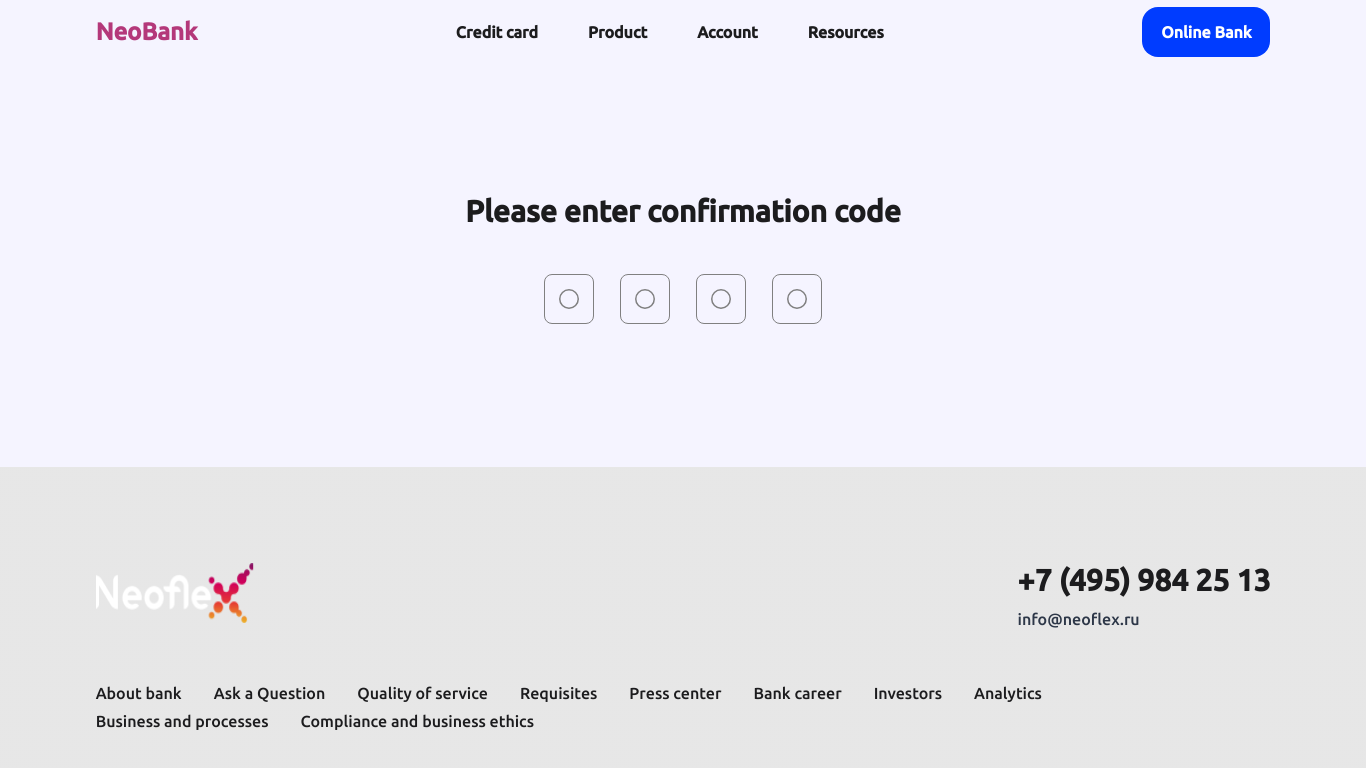
Test: Code › invalid code message
Type "0" into the 1st field. click: (569, 299)
box: [544,274,594,324]
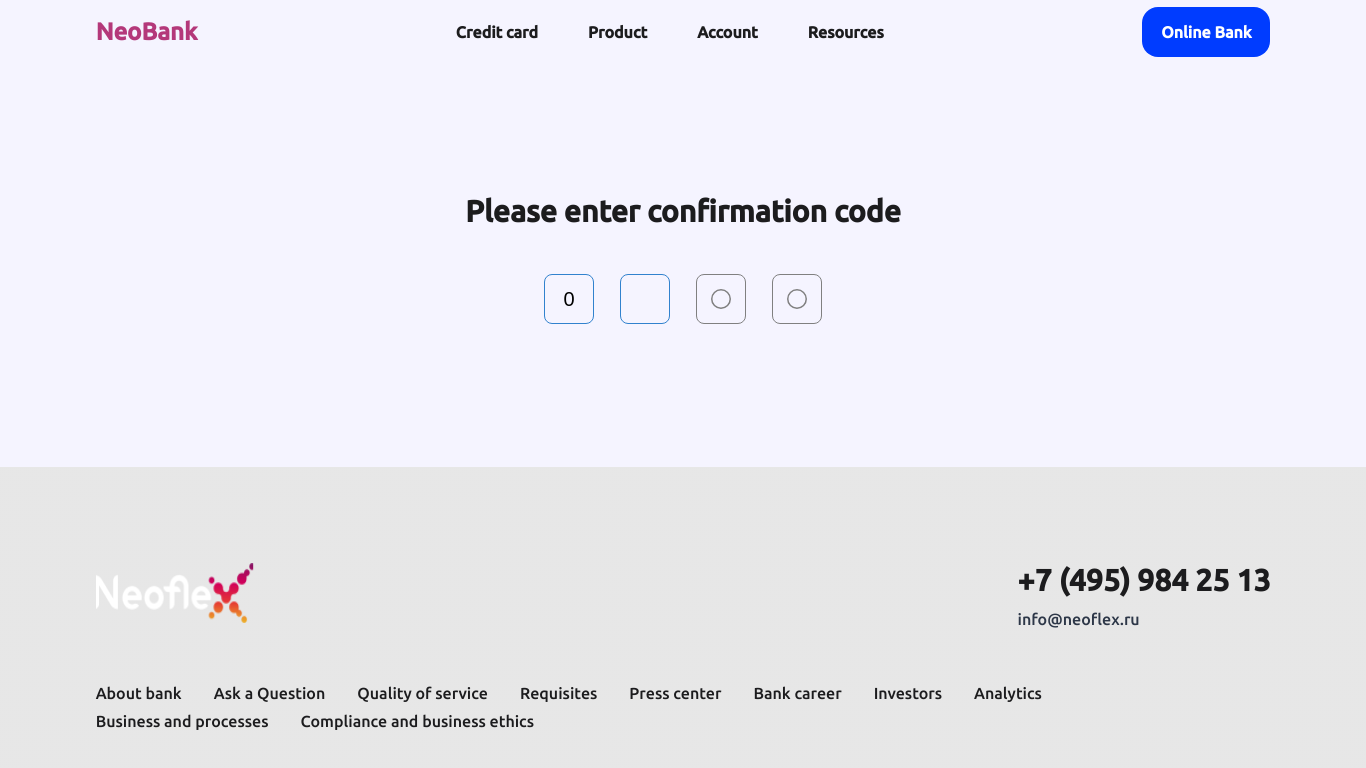
Type "0" into the 2nd field. click: (645, 299)
box: [620,274,670,324]
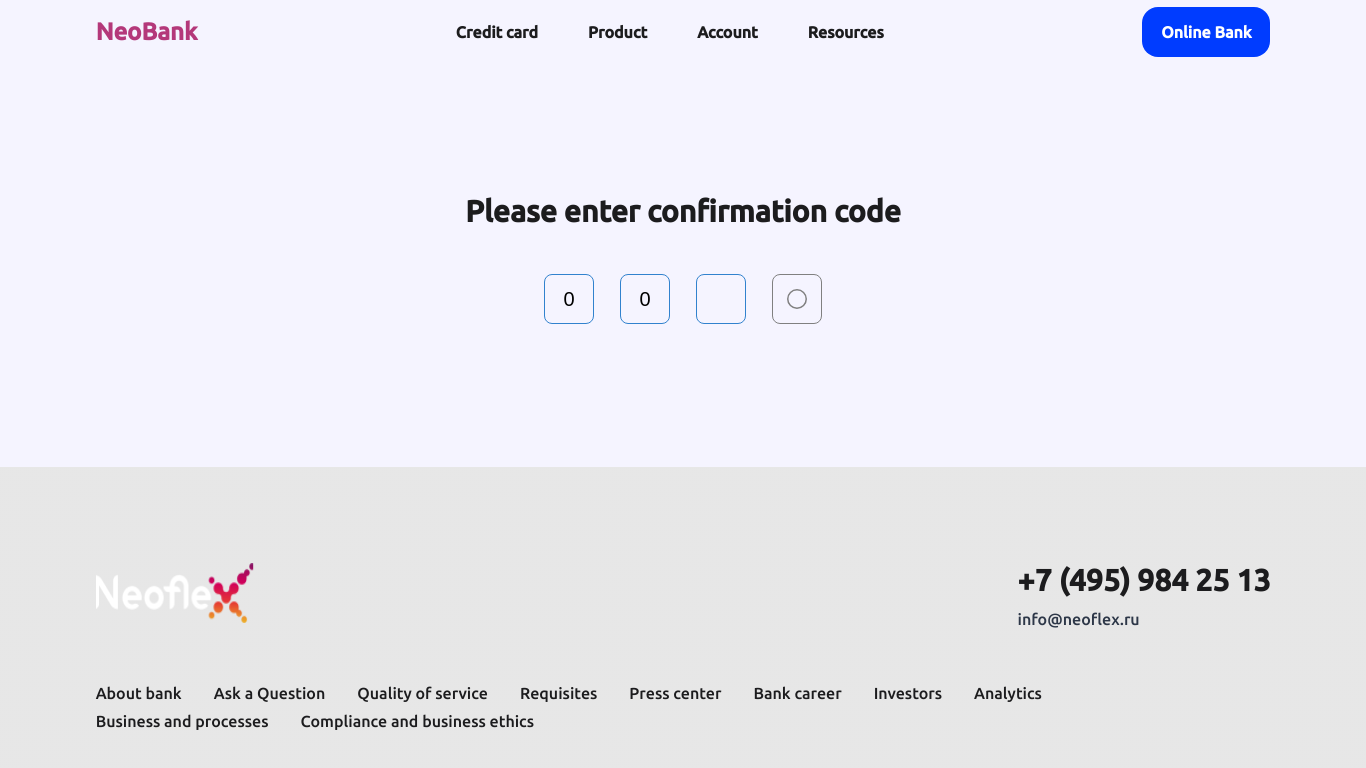
Type "0" into the 3rd field. click: (721, 299)
box: [696,274,746,324]
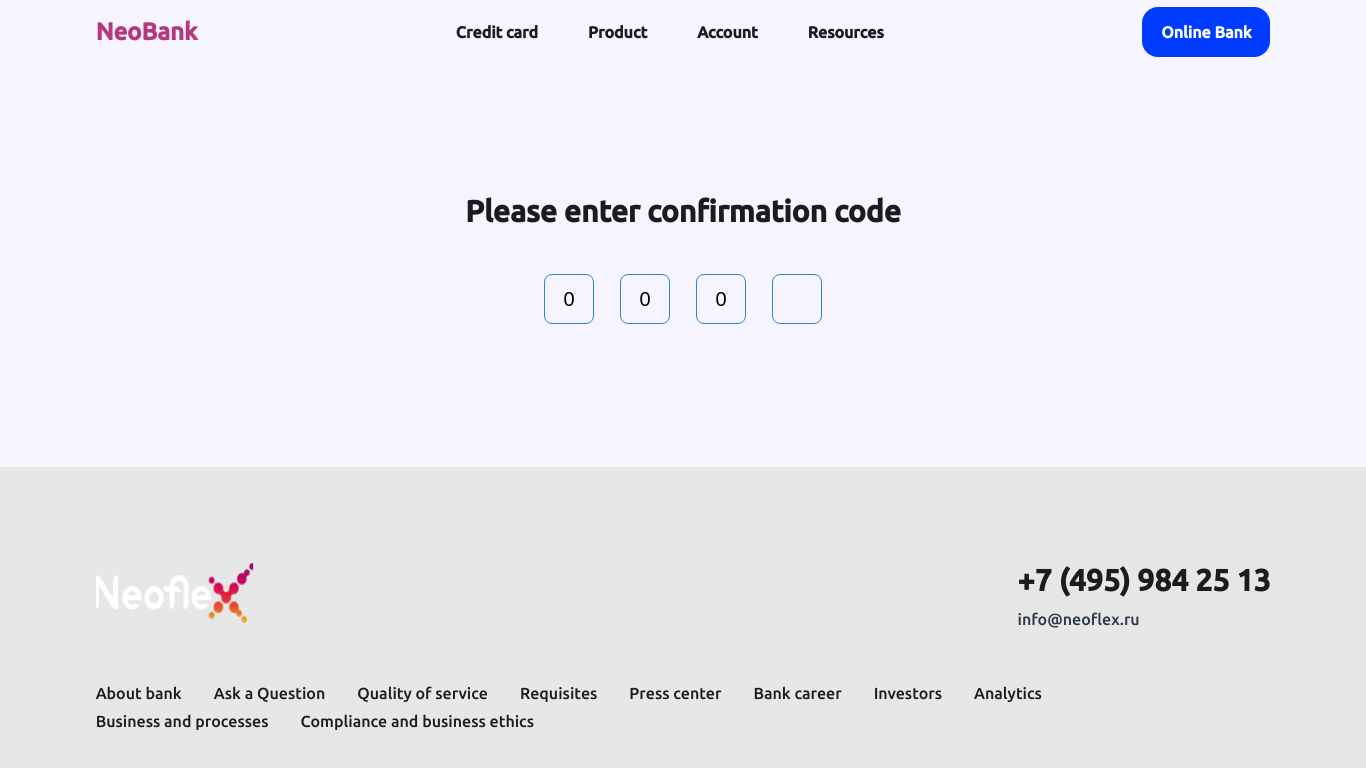
Type "0" into the 4th field. click: (797, 299)
box: [772,274,822,324]
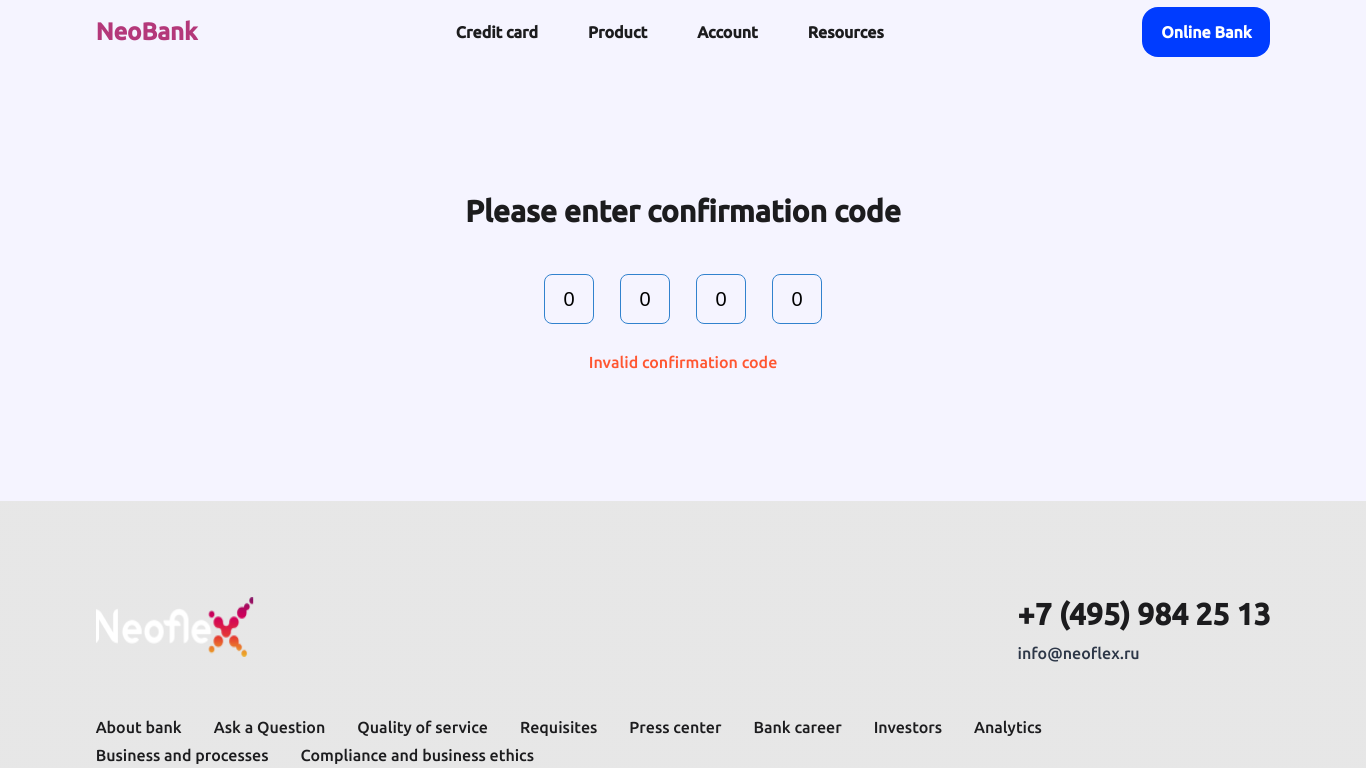
Check: the text "Invalid confirmation code" is shown, box [589,353,777,371]
